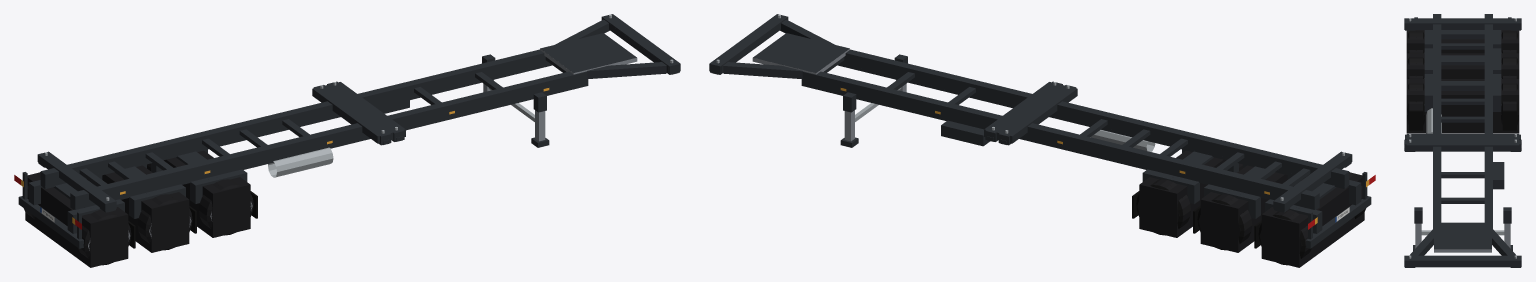
File: truck-chassis.glb
The picture shows the model from 3 angles, left to right: view 1: azimuth 30°, elevation 25°; view 2: azimuth 150°, elevation 25°; view 3: azimuth 270°, elevation 25°; orthographic projection. The views are drawn at different scales.
Parts seen in each view (by area): view 1: chassis (×3), wheel_t1, wheel_t2, wheel_t3; view 2: chassis (×3), wheel_t1, wheel_t2, wheel_t3; view 3: chassis (×3), wheel_t1, wheel_t3, wheel_t2.
Boxes of the visible parts, x1=… form: chassis (×3): x1=14, y1=14, x2=680, y2=267; wheel_t1: x1=147, y1=163, x2=253, y2=235; wheel_t2: x1=87, y1=179, x2=192, y2=250; wheel_t3: x1=24, y1=172, x2=131, y2=265; chassis (×3): x1=709, y1=14, x2=1375, y2=267; wheel_t1: x1=1136, y1=163, x2=1242, y2=235; wheel_t2: x1=1197, y1=179, x2=1302, y2=250; wheel_t3: x1=1258, y1=172, x2=1365, y2=265; chassis (×3): x1=1404, y1=14, x2=1521, y2=267; wheel_t1: x1=1407, y1=83, x2=1518, y2=124; wheel_t3: x1=1408, y1=31, x2=1517, y2=53; wheel_t2: x1=1407, y1=57, x2=1518, y2=78.
Size of the model in its own units: 12.73 by 1.35 by 2.5.
Materials: 1 (1 with a texture image).
